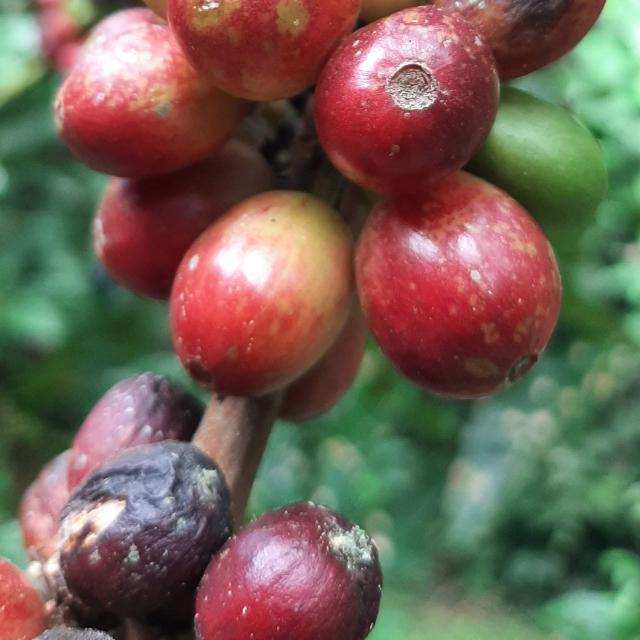green: (467, 85, 608, 228)
red: (355, 171, 562, 399), (314, 4, 500, 195), (58, 441, 231, 618), (194, 503, 383, 640), (67, 373, 202, 491)
yellow: (170, 190, 354, 396), (54, 20, 244, 177), (93, 139, 273, 299), (166, 0, 360, 100), (433, 0, 607, 79), (278, 299, 368, 422)
